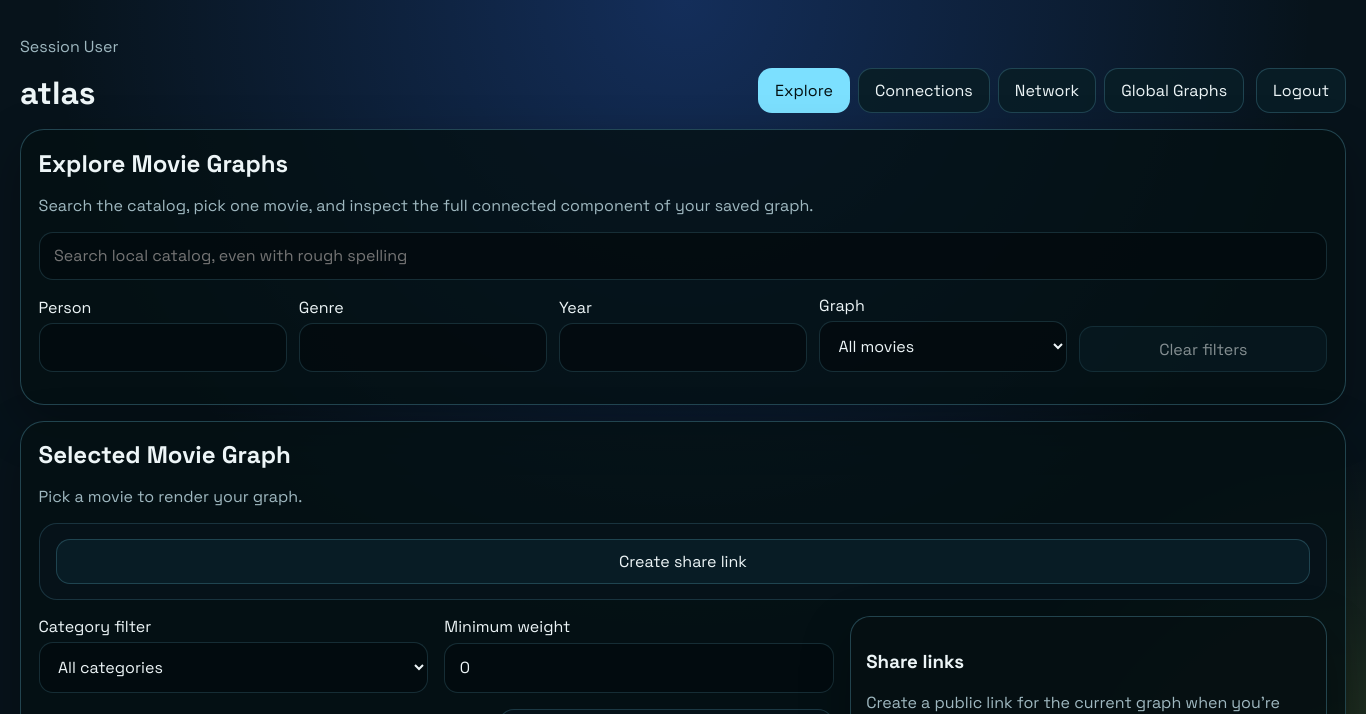
App › passes explore search filters to the movie search endpoint
This screenshot has width=1366, height=714.
expect the text "Explore Movie Graphs" is shown: met, box x1=39 y1=148 x2=288 y2=179
Type "Solar" into the field with placeholder "Search local catalog, even with rough spelling" at (683, 256), box x1=39 y1=232 x2=1327 y2=280
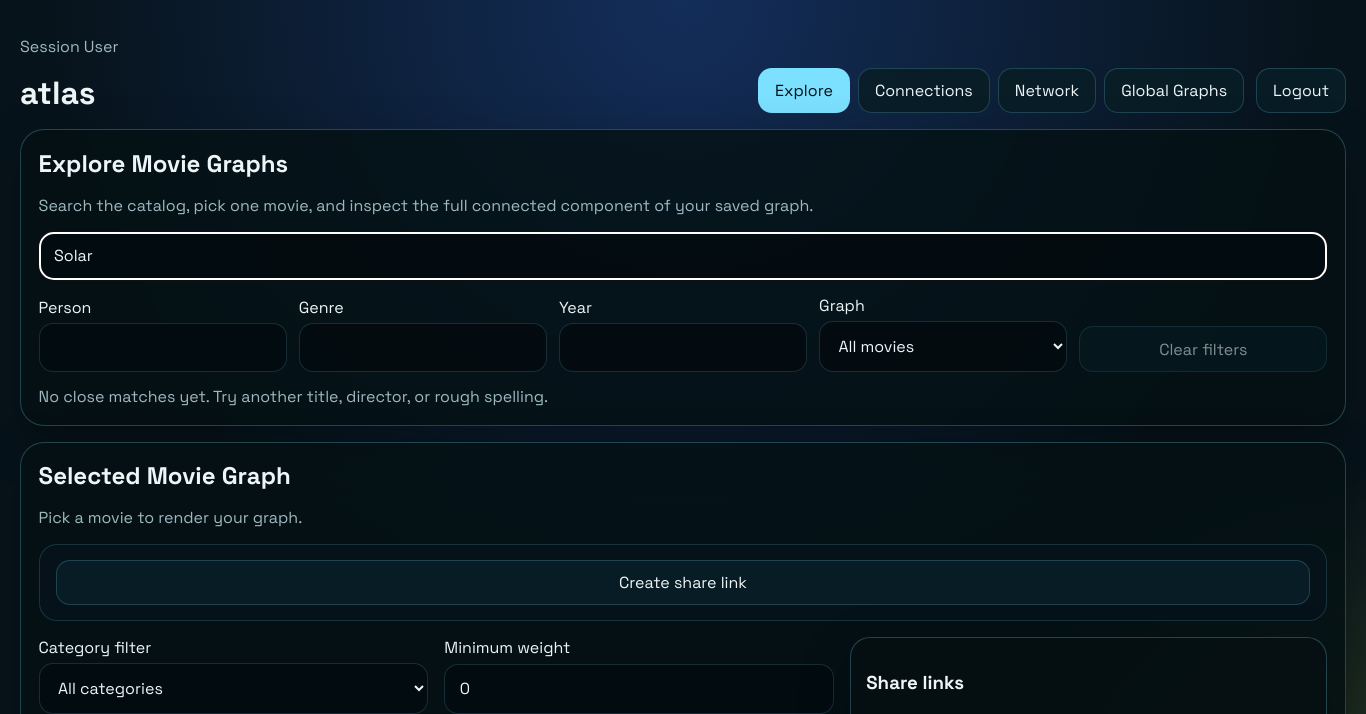
Type "Tilda" into the field labelled "Person" at (163, 348), box x1=39 y1=323 x2=287 y2=372
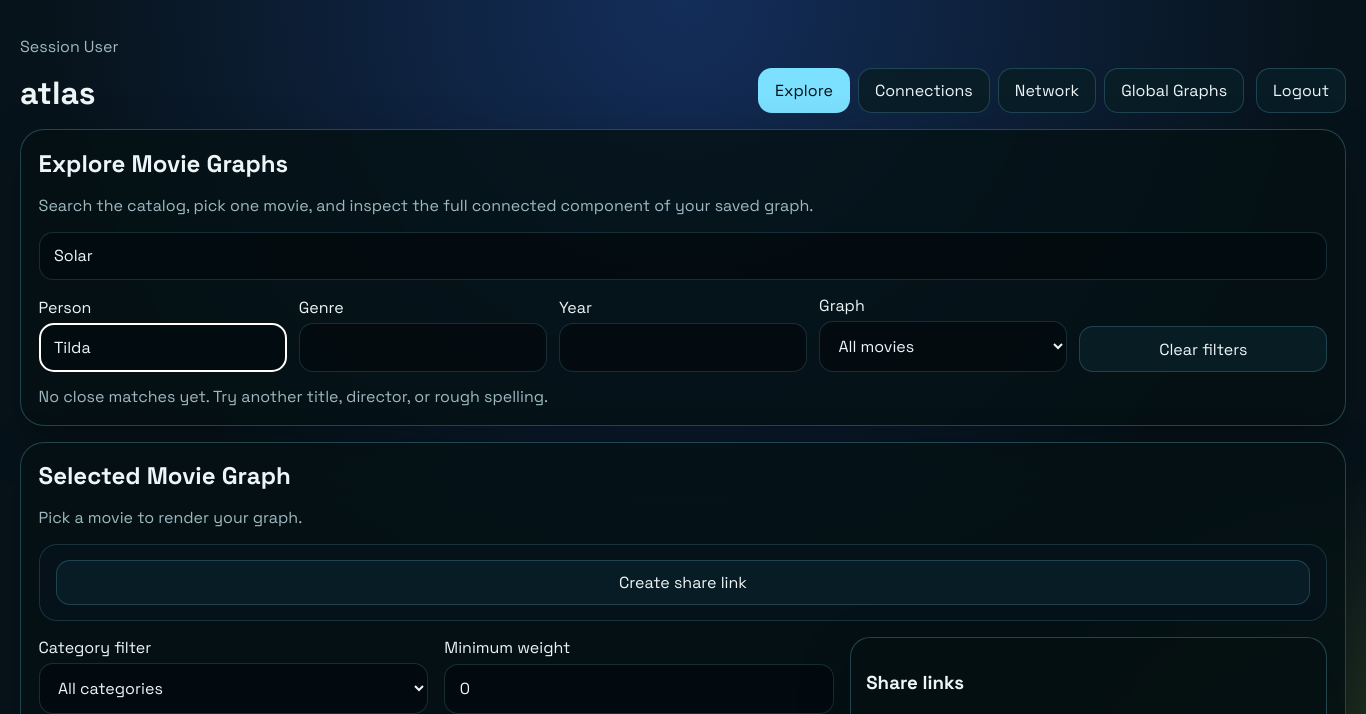
Type "Mystery" into the field labelled "Genre" at (423, 348), box x1=299 y1=323 x2=547 y2=372
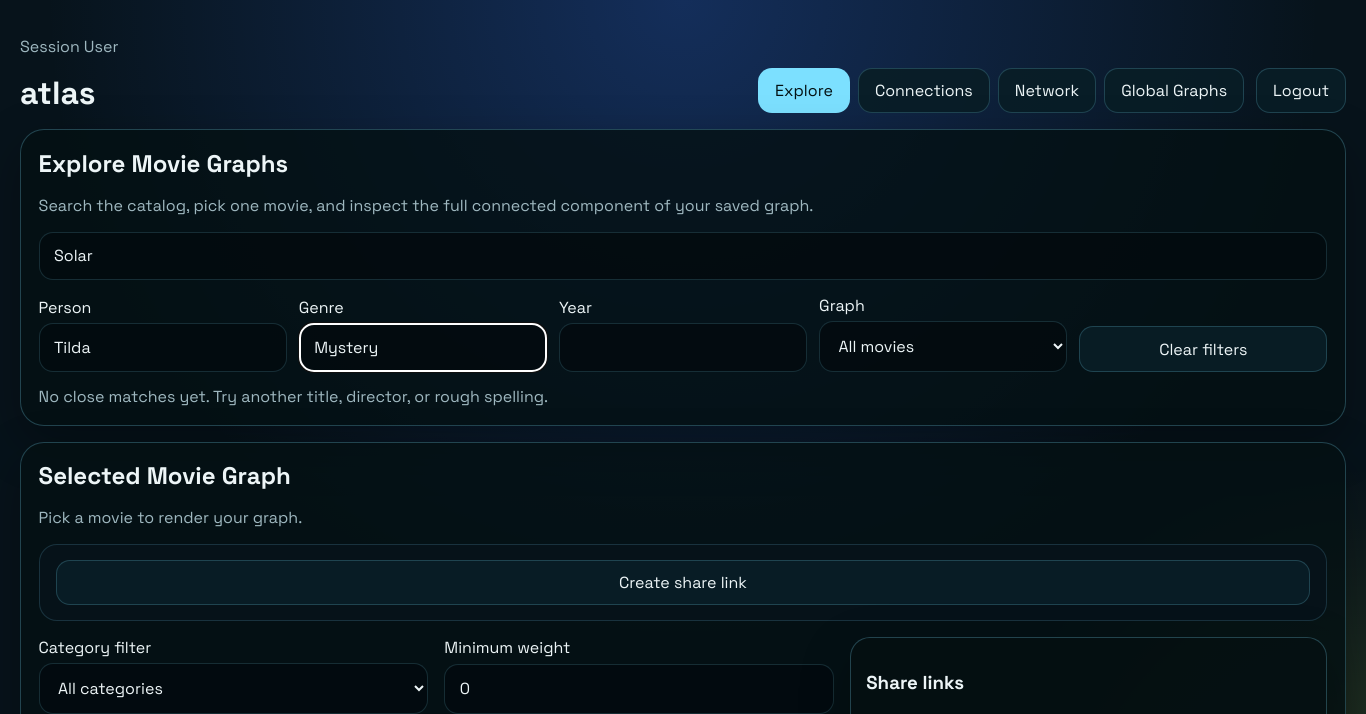
Type "2021" into the field labelled "Year" at (683, 348), box x1=559 y1=323 x2=807 y2=372
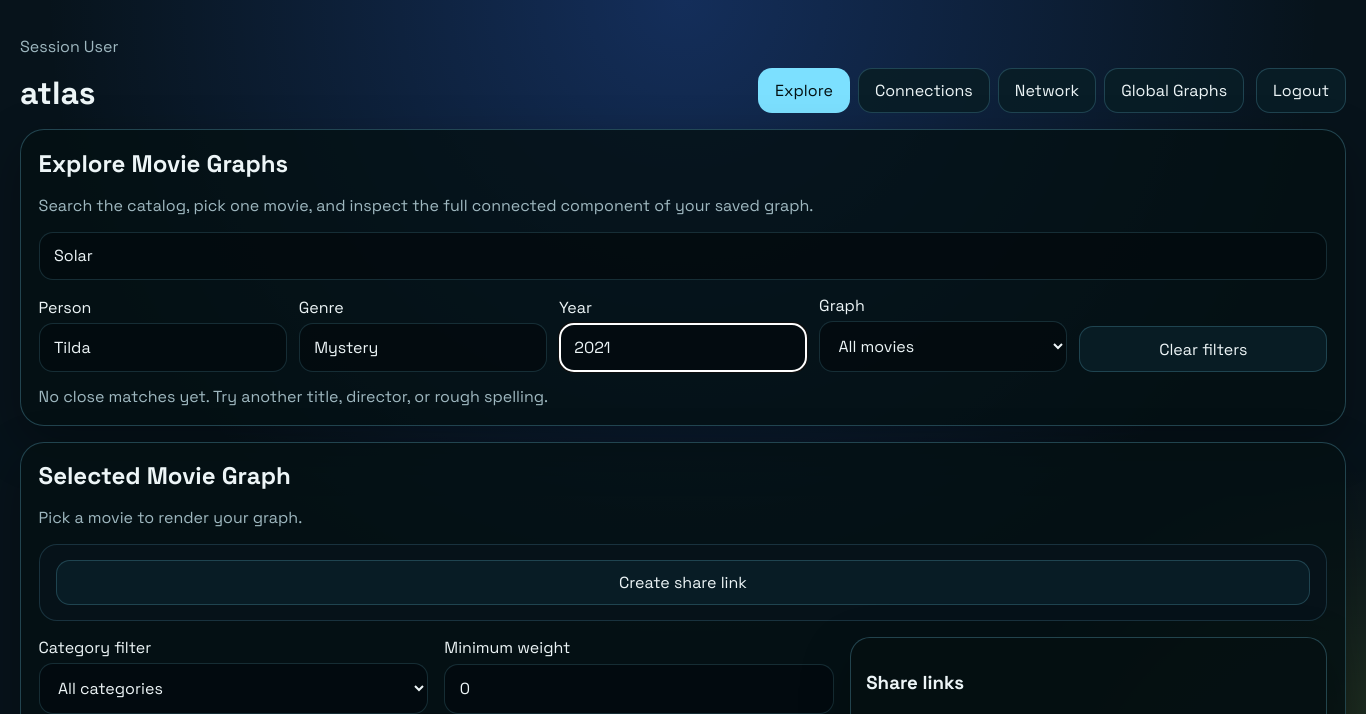
Select "Outside my graph" in the dropdown labelled "Graph" at (943, 346), box x1=819 y1=321 x2=1067 y2=372
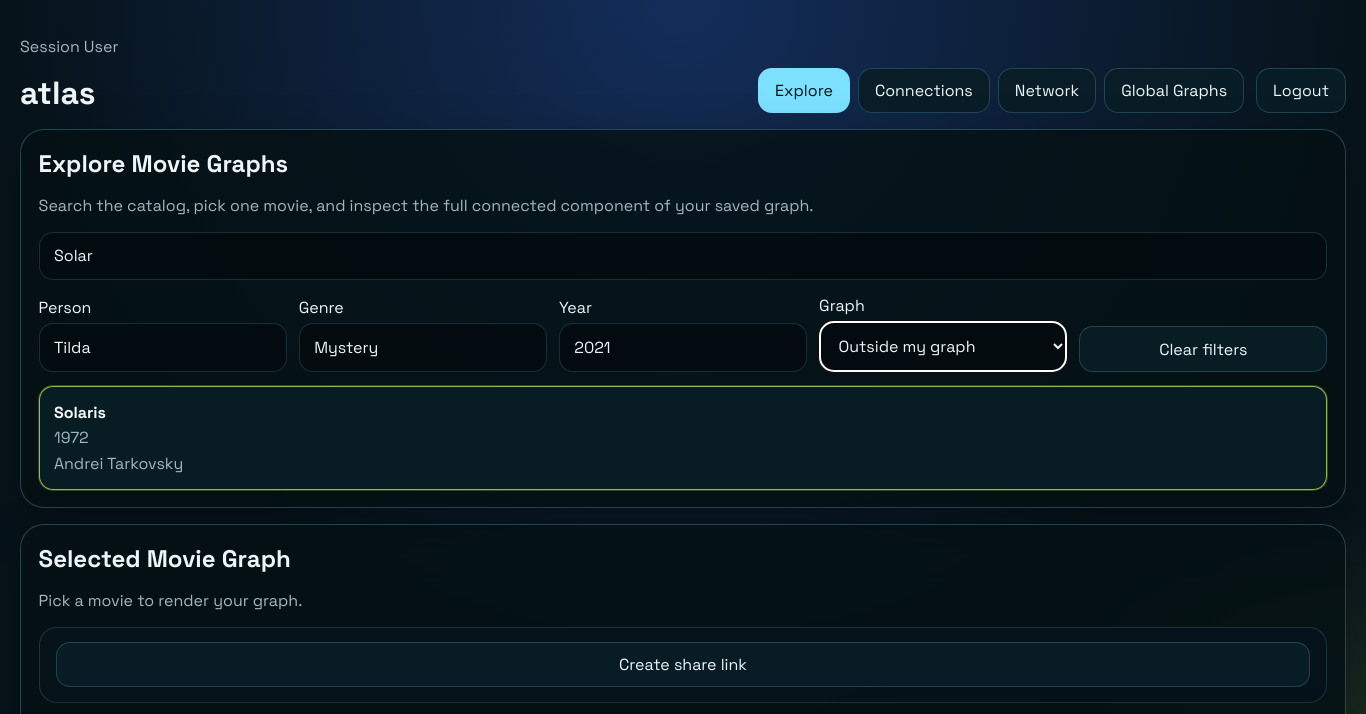
expect the button "Solaris 1972 Andrei Tarkovsky" is shown: met, box x1=39 y1=386 x2=1327 y2=490
